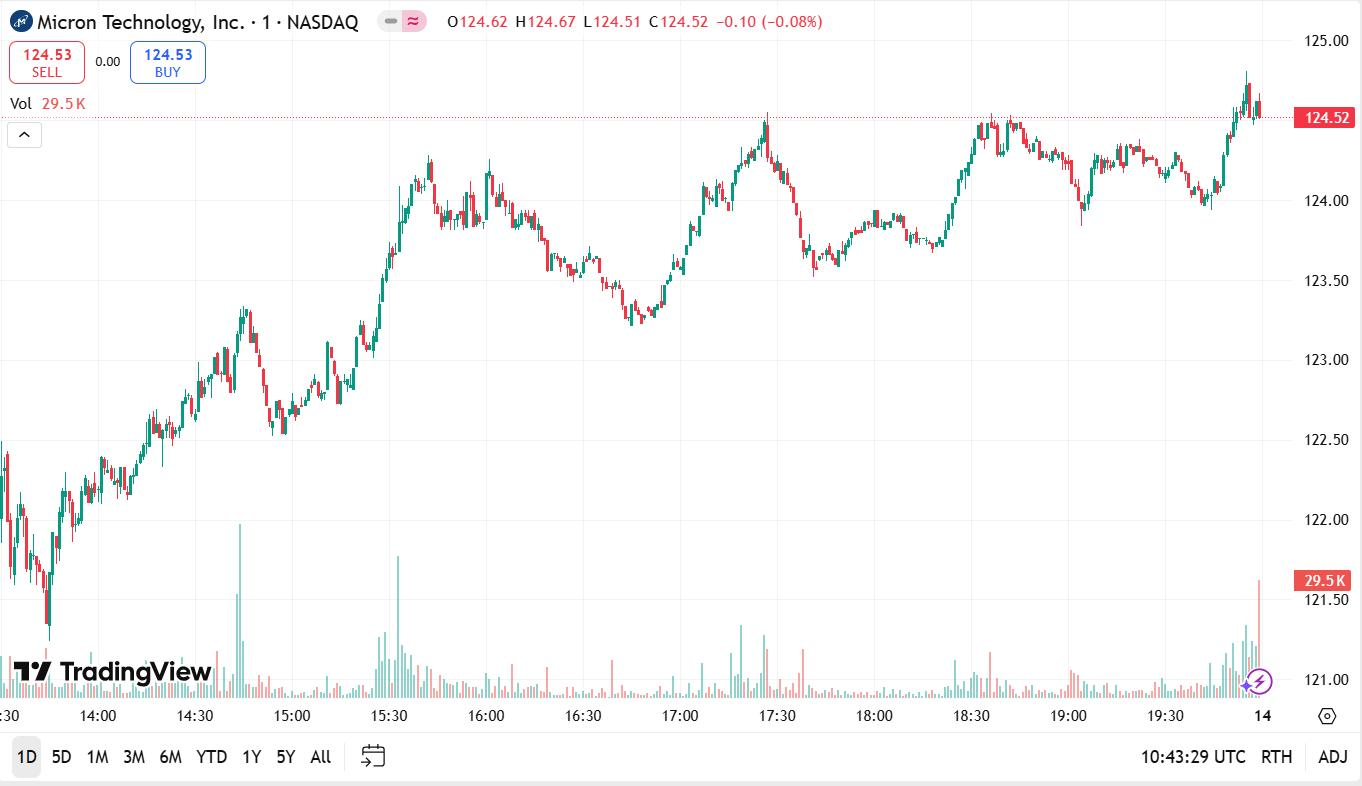Downtrend: (525, 154, 624, 330), (760, 98, 818, 290), (242, 292, 284, 436), (22, 497, 63, 613)
Sideways: (1093, 119, 1169, 187)
Uptrend: (337, 125, 424, 409), (633, 142, 721, 344), (929, 110, 981, 259), (1200, 70, 1249, 212), (120, 390, 155, 495)
